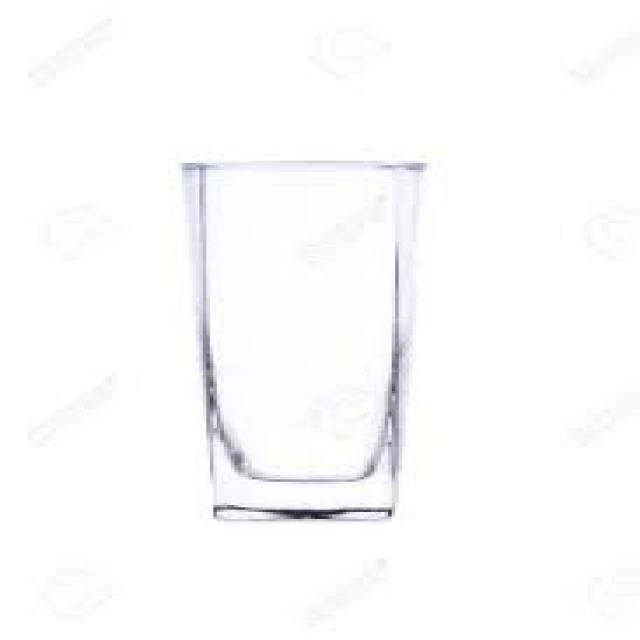glass: (178, 161, 420, 519)
